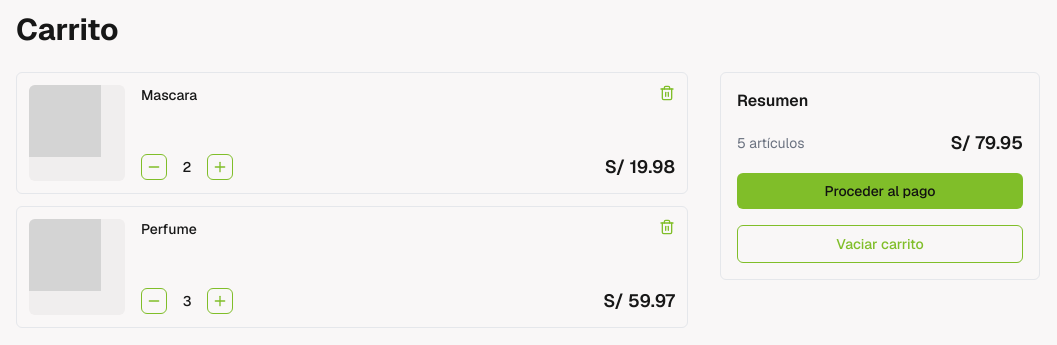
CartView › con productos › quita un producto
The image size is (1057, 345).
Step 1. Click the button named "Quitar: Mascara" → (667, 93), box [659, 85, 675, 101]
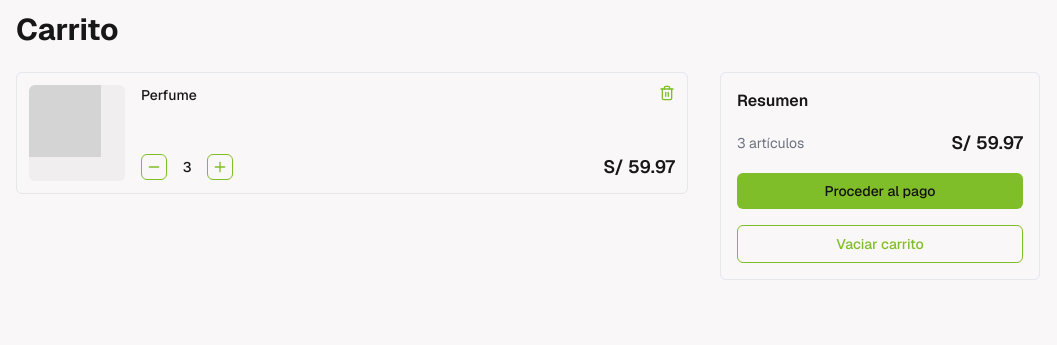
Expected: the number of list items is 1, [16, 72, 688, 194]
